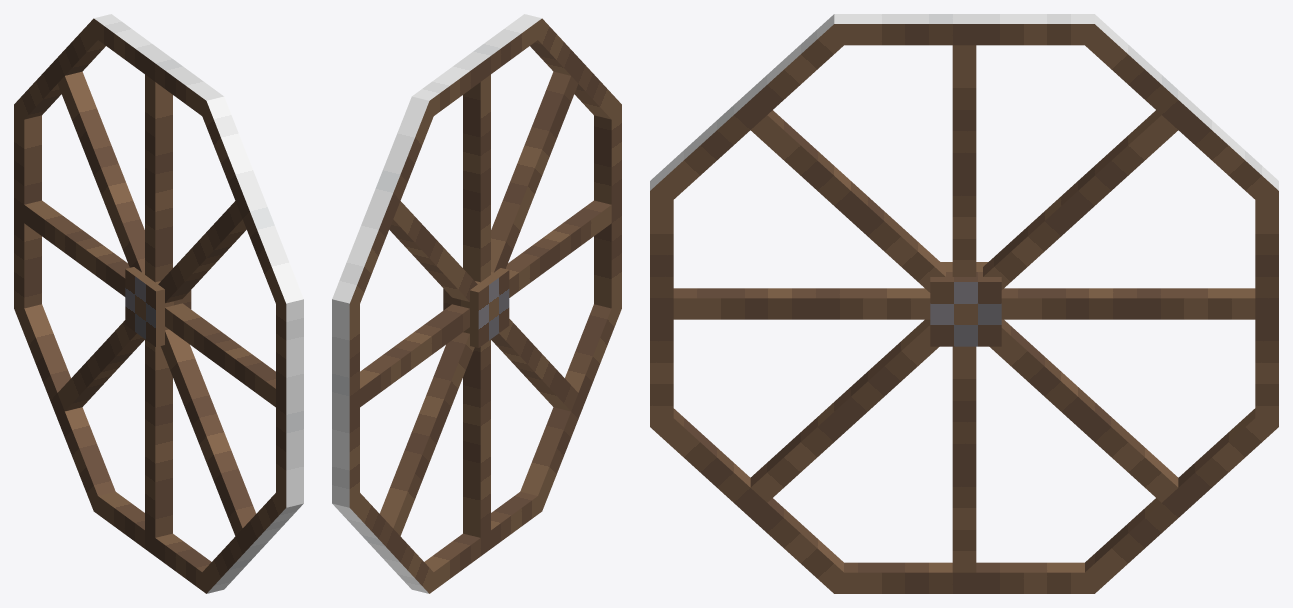
The model's file is spinning_wheel_large_wheel.obj.
3 renders of one model, left to right at view 1: azimuth 30°, elevation 25°; view 2: azimuth 150°, elevation 25°; view 3: azimuth 270°, elevation 25°, orthographic. The views are drawn at different scales.
Visible parts, largest first — view 1: wheel_big; view 2: wheel_big; view 3: wheel_big.
Boxes of the visible parts, x1,y1,x2,y2 form: wheel_big: (14,14,303,593); wheel_big: (332,14,621,593); wheel_big: (650,14,1278,593).
Bounding box in the file's own units: 0.125 × 1.66 × 1.66.
